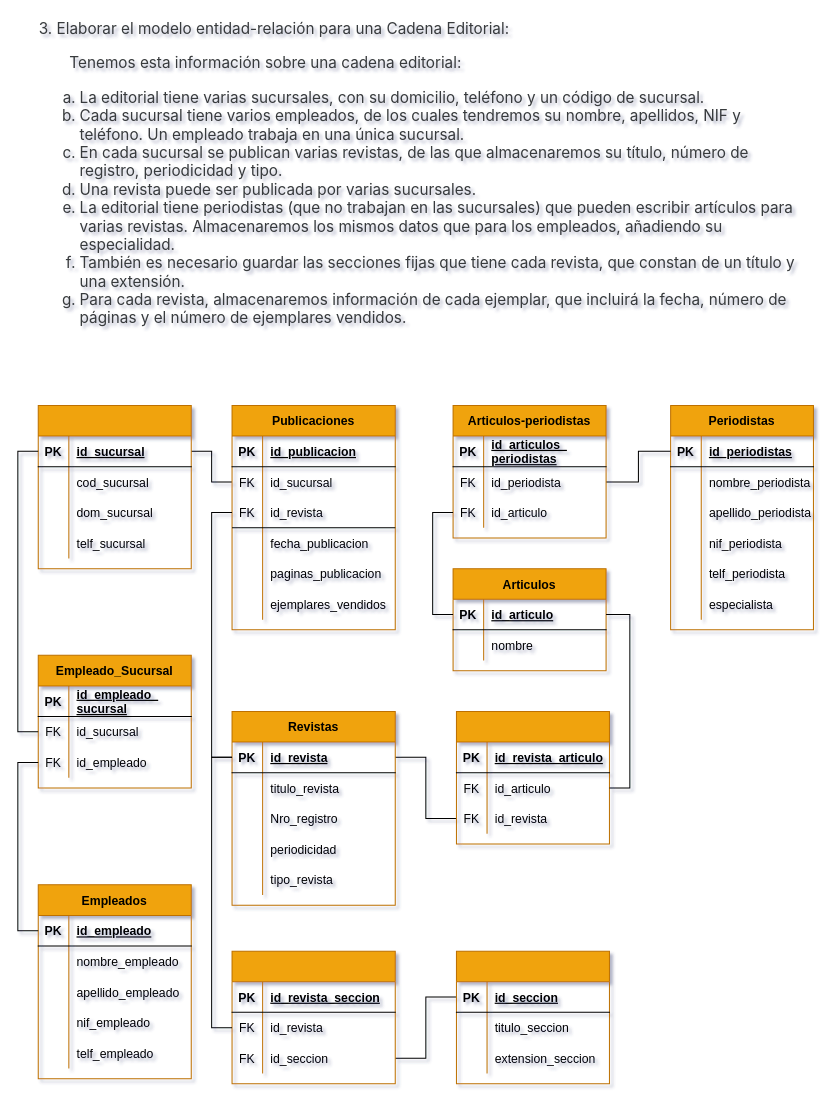
Image size: 837x1108. Some labels were removed from this diagram. The box of each missing label's shape, as (x1, y1, x2, y2) in pixels:
Revistas_articulos: (455, 710, 609, 844)
Revistas_secciones: (231, 950, 395, 1084)
Secciones: (455, 950, 609, 1084)
Sucursales: (37, 404, 191, 569)
